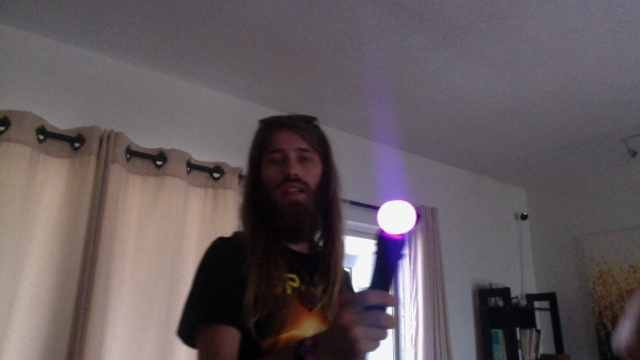wand: (378, 200, 416, 236)
